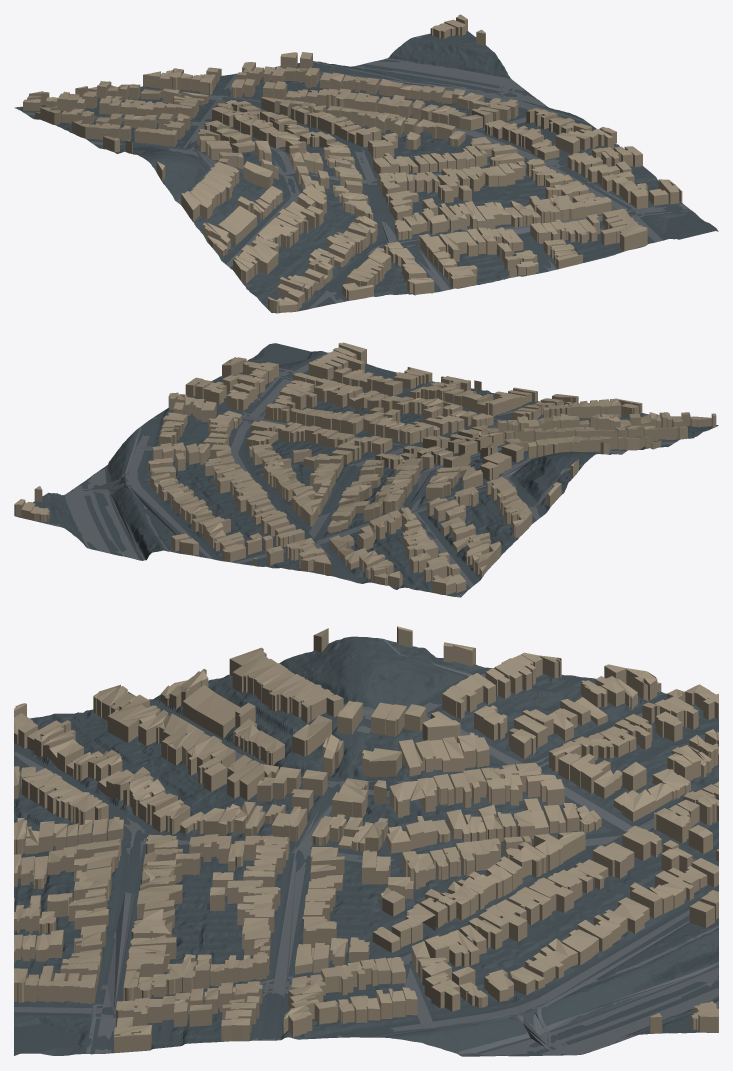
File: epsg26910-1433-10877.lod0.glb
The picture shows the model from 3 angles, top to bottom: view 1: azimuth 30°, elevation 25°; view 2: azimuth 150°, elevation 25°; view 3: azimuth 270°, elevation 25°; orthographic projection. The views are drawn at different scales.
Parts seen in each view (by area): view 1: epsg26910-1433-10877-lod0; view 2: epsg26910-1433-10877-lod0; view 3: epsg26910-1433-10877-lod0.
Part boxes in pixels (x1,y1,x2,y2): epsg26910-1433-10877-lod0: (14,14,718,313); epsg26910-1433-10877-lod0: (14,342,718,597); epsg26910-1433-10877-lod0: (14,626,718,1056).
Bounding box in the file's own units: 384 × 79.76 × 384.
